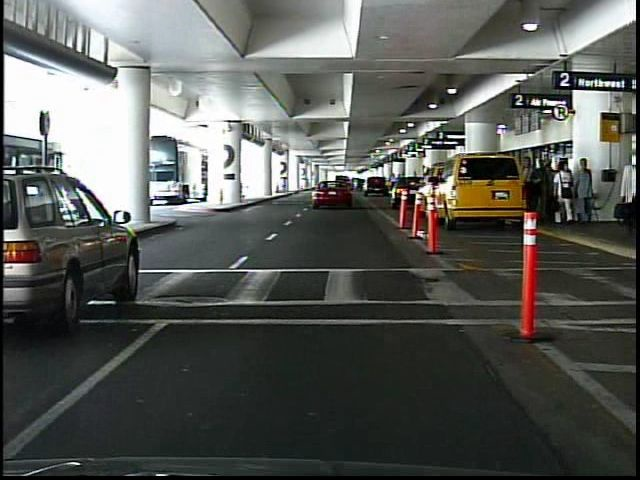person: (616, 152, 639, 242), (574, 156, 599, 225), (555, 157, 576, 226)
